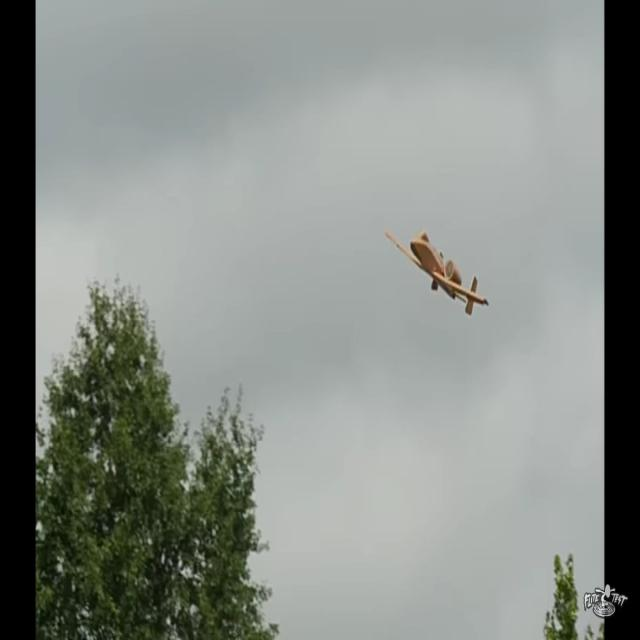iha: (414, 260, 456, 284)
